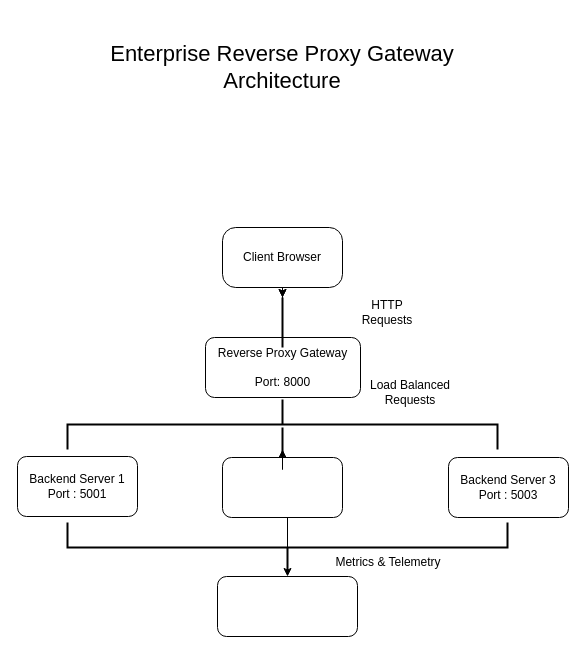
Image size: 586x654. Some labels were removed from this diagram. Each missing label, with the box of its shape:
Backend Server 2 Port : 5002: (222, 456, 342, 518)
Real-Time Dashboard Flask + Chart.js: (216, 576, 358, 636)
